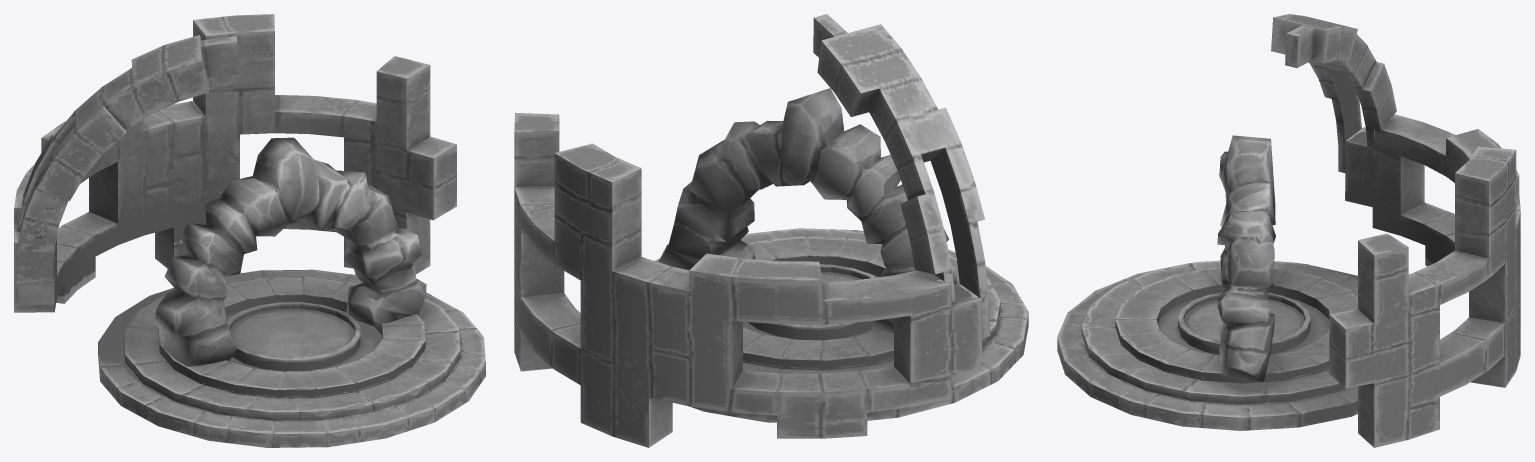
Rendered from BgMD_Field_STgate_V2.fbx.
The picture shows the model from 3 angles, left to right: view 1: azimuth 30°, elevation 25°; view 2: azimuth 150°, elevation 25°; view 3: azimuth 270°, elevation 25°; orthographic projection. The views are drawn at different scales.
Visible parts, largest first — view 1: SM_STgate_gate; view 2: SM_STgate_gate; view 3: SM_STgate_gate.
Boxes of the visible parts, bbox=[...] form: SM_STgate_gate: bbox=[14, 14, 485, 447]; SM_STgate_gate: bbox=[514, 14, 1028, 447]; SM_STgate_gate: bbox=[1057, 14, 1520, 447].
Bounding box in the file's own units: 1122 × 778 × 1080.
